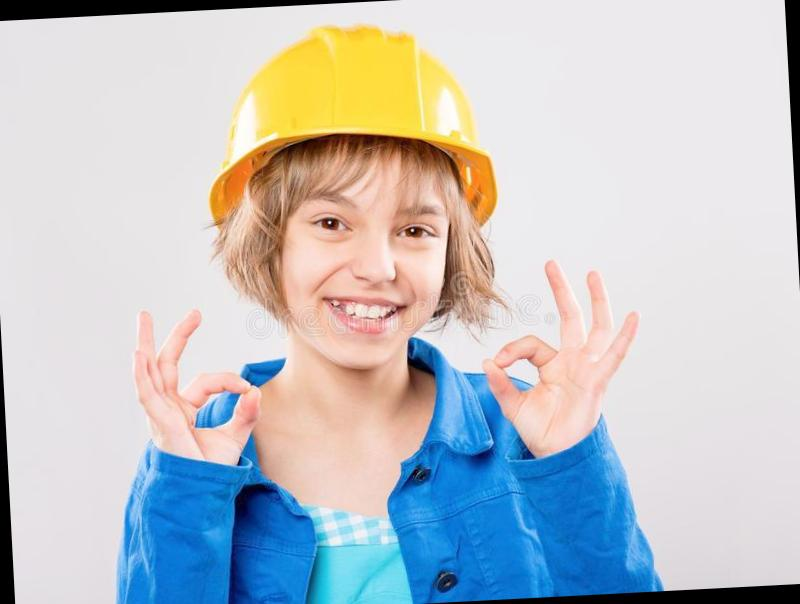helmet: (196, 16, 512, 228)
no_vest: (164, 347, 624, 604)
person: (109, 25, 653, 604)
